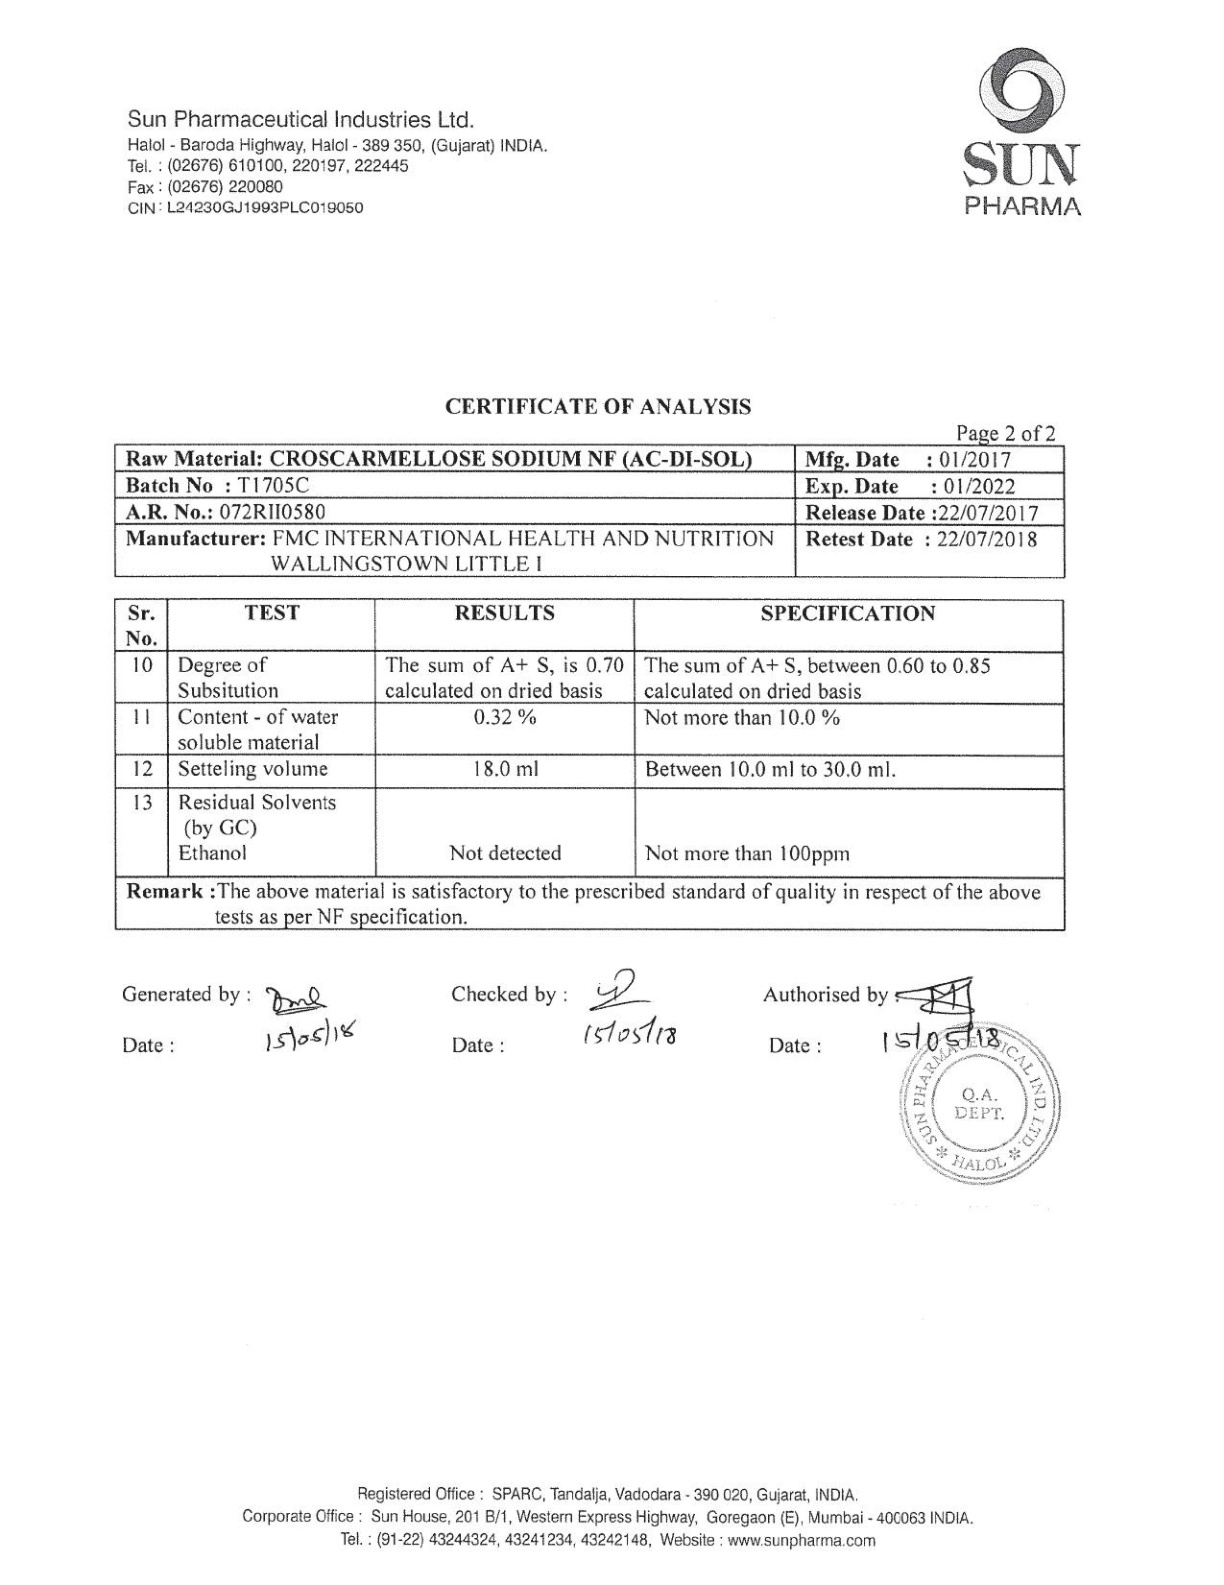full_lined: (113, 443, 1066, 578)
merged_cells: (112, 598, 1066, 931)
